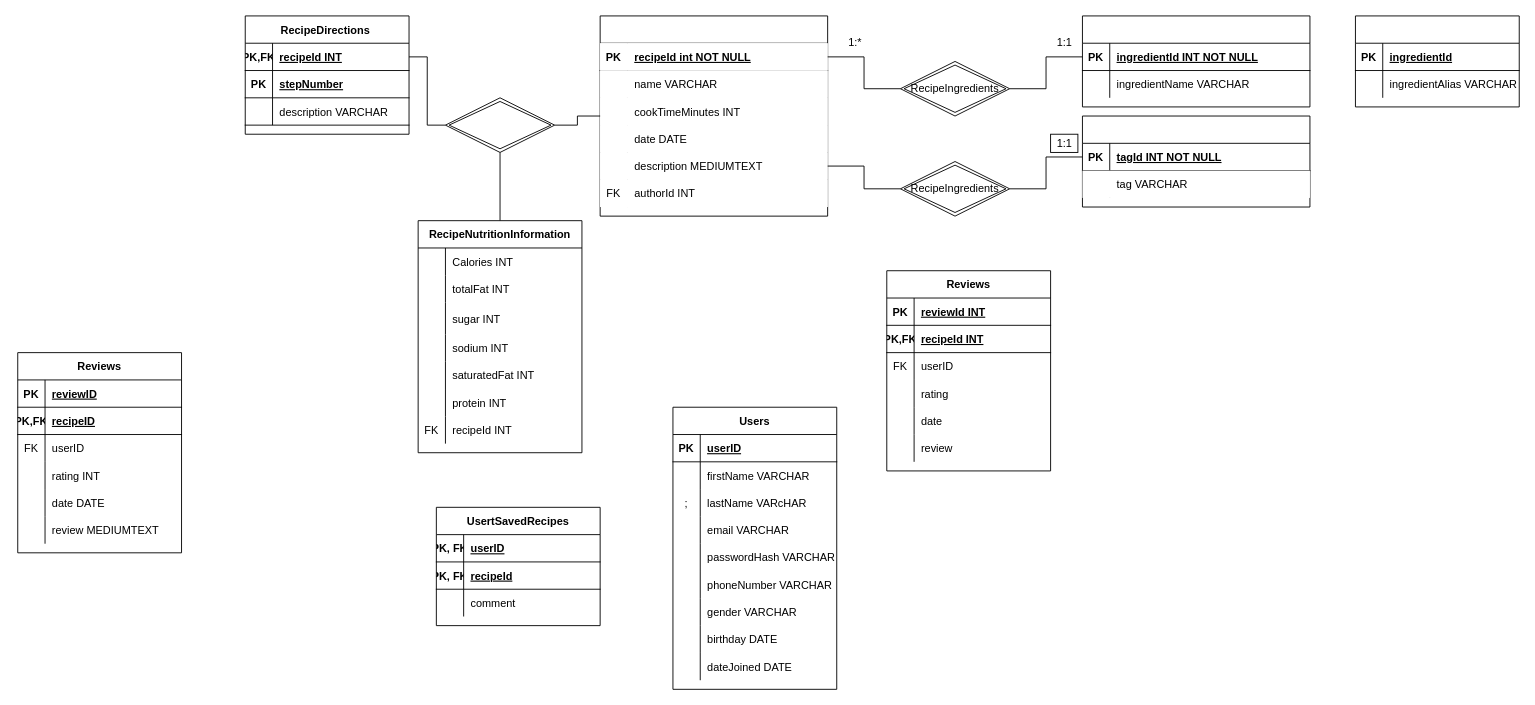
Some shapes in this 1535 by 705 pixel diagram are drawn without their labels. Here are the shapes that lost their labels. From the top down, the box of each, then its label:
(1082, 15, 1310, 107): Ingredients
(1355, 15, 1519, 107): IngredientAliass
(445, 97, 555, 152): RecipeDetails
(599, 15, 828, 216): Recipes
(1082, 115, 1310, 207): Tags
